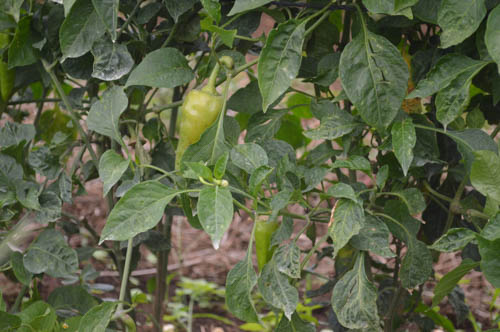ChiliPepper: (179, 92, 222, 179), (254, 222, 276, 275)
